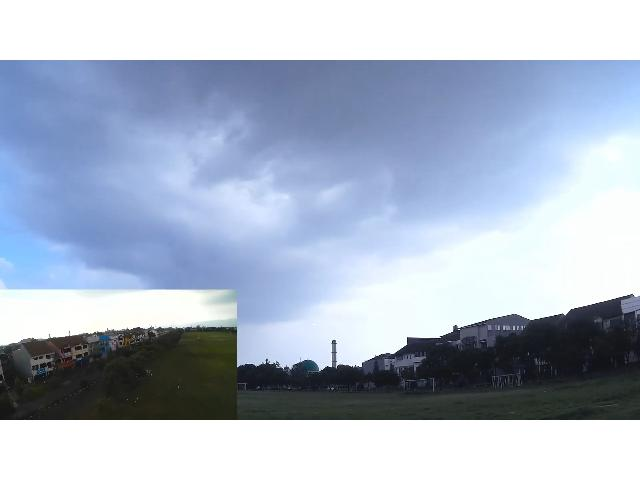Anti-Drone: (307, 322, 323, 329)
